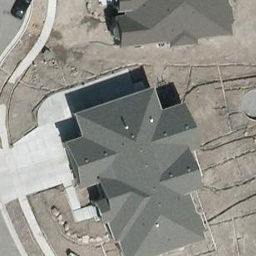car: (11, 1, 34, 17)
